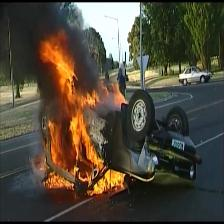fire: (39, 30, 130, 196)
